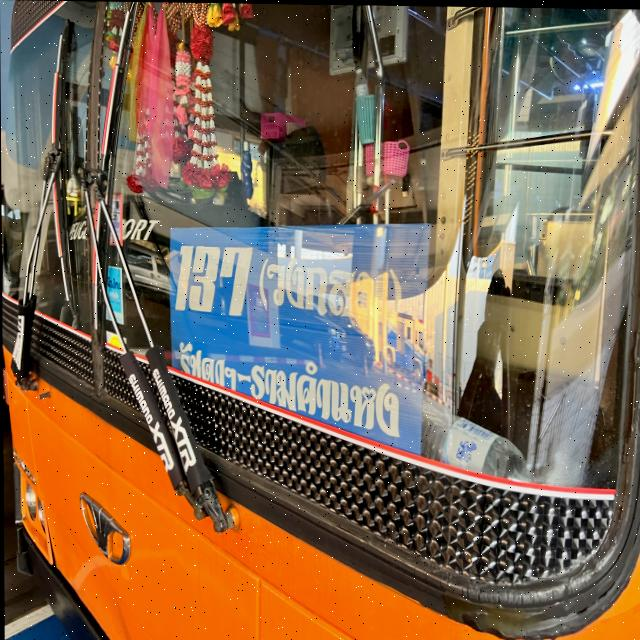BMTA-bus: (0, 0, 640, 640)
Destination-Sign-Normal: (168, 219, 429, 454)
